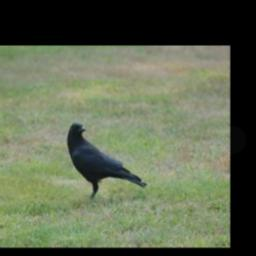Crow: (66, 120, 147, 200)
